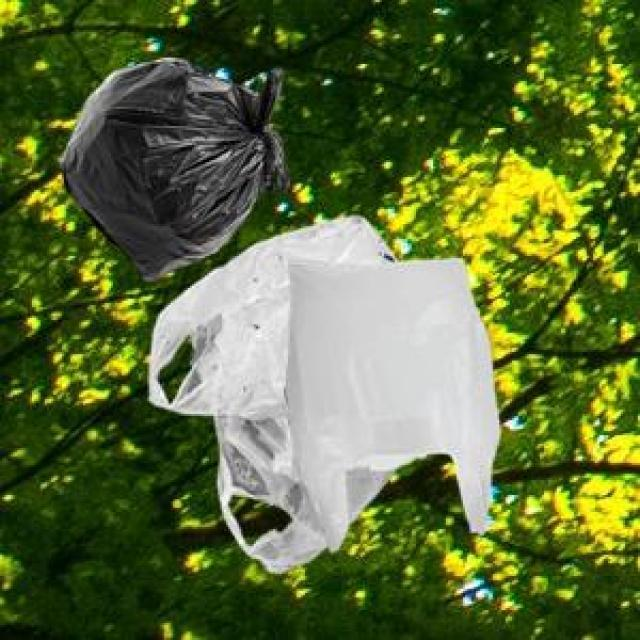miscellaneous trash: (56, 53, 286, 275)
